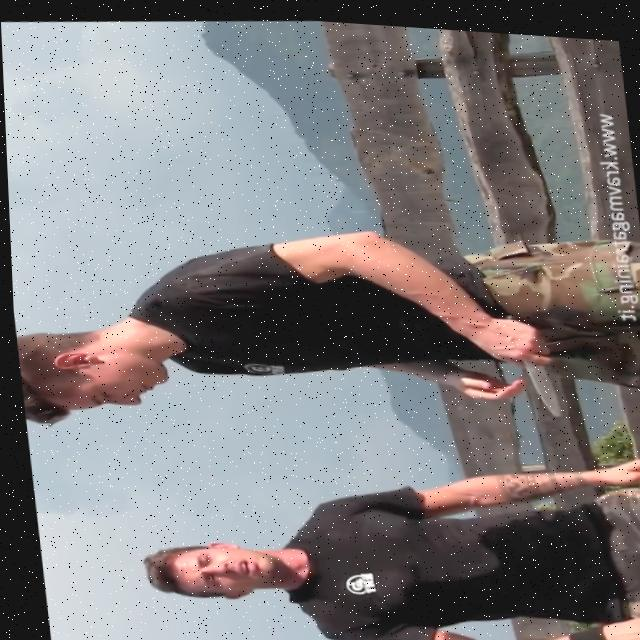knife: (514, 353, 558, 413)
